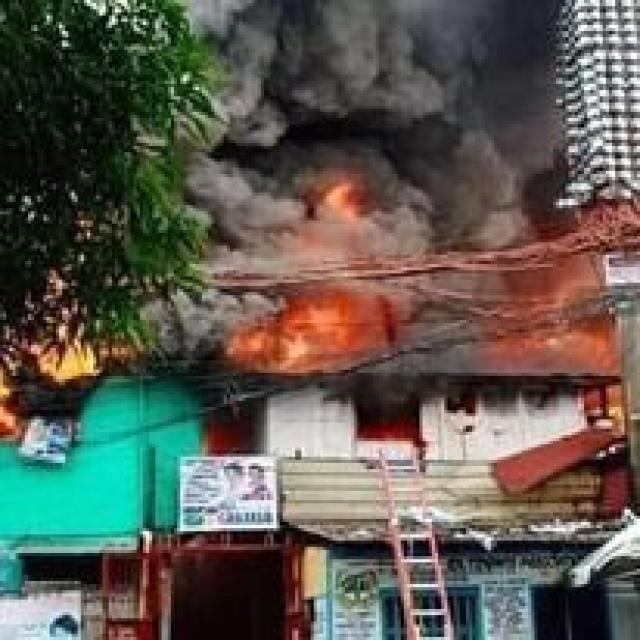Fire: (245, 284, 397, 364), (516, 279, 628, 376), (0, 333, 100, 437), (293, 182, 378, 236)
Smoke: (130, 0, 577, 360)
